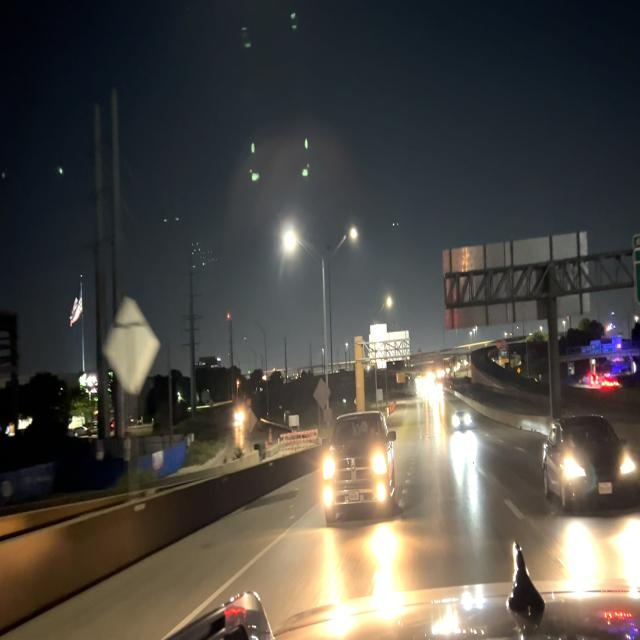back-of-sign: (443, 230, 592, 333), (105, 300, 160, 396), (369, 324, 409, 362), (314, 377, 332, 409)
